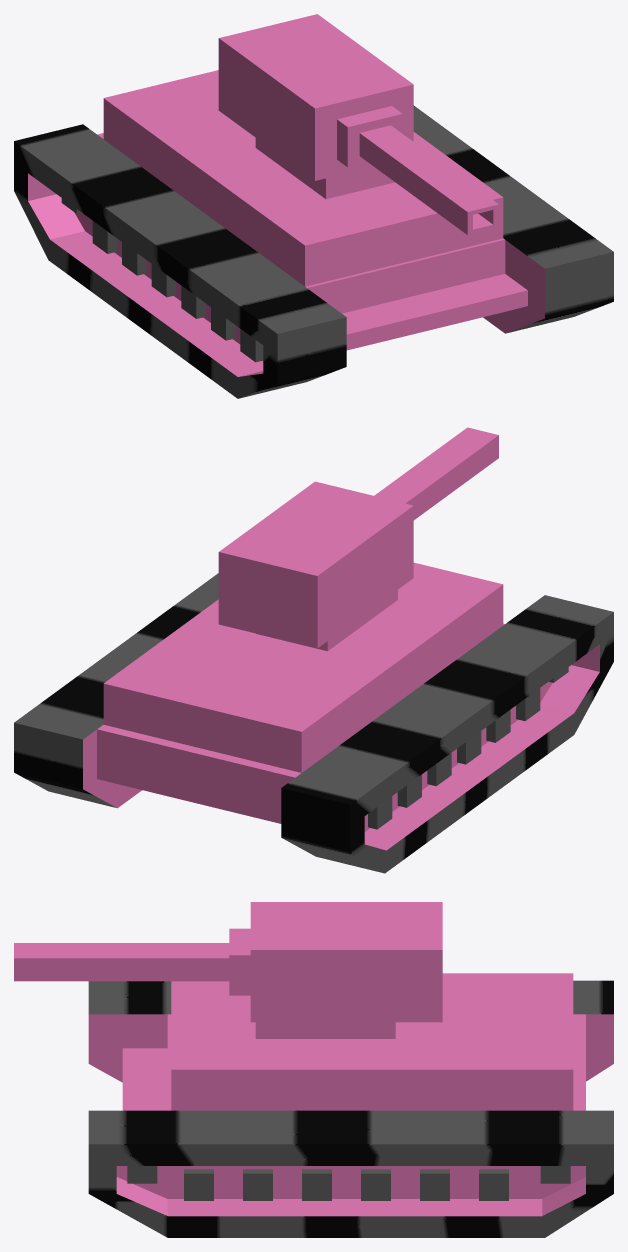
The model's file is sensha06.fbx.
3 views of the same model, one above another, from view 1: azimuth 30°, elevation 25°; view 2: azimuth 150°, elevation 25°; view 3: azimuth 270°, elevation 25° (orthographic).
Visible parts, largest first — view 1: polySurface4, polySurface1, polySurface2, polySurface5, polySurface3, pCube17, pCube16, pCube19, pCube18, pCube15, pCube14; view 2: polySurface1, polySurface4, polySurface2, polySurface5, polySurface3; view 3: polySurface1, polySurface3, polySurface2, polySurface5, polySurface4, pCube6, pCube7, pCube8, pCube9, pCube10, pCube11, pCube3 (+1 smaller).
Part boxes in pixels (x1=…): polySurface4: x1=14, y1=124, x2=346, y2=398; polySurface1: x1=103, y1=70, x2=503, y2=286; polySurface2: x1=218, y1=14, x2=498, y2=234; polySurface5: x1=28, y1=133, x2=544, y2=376; polySurface3: x1=413, y1=105, x2=613, y2=332; pCube17: x1=151, y1=264, x2=175, y2=297; pCube16: x1=181, y1=285, x2=205, y2=318; pCube19: x1=92, y1=221, x2=116, y2=253; pCube18: x1=122, y1=242, x2=146, y2=275; pCube15: x1=211, y1=307, x2=235, y2=340; pCube14: x1=240, y1=329, x2=263, y2=362; polySurface1: x1=103, y1=562, x2=503, y2=772; polySurface4: x1=281, y1=595, x2=613, y2=873; polySurface2: x1=218, y1=427, x2=498, y2=651; polySurface5: x1=83, y1=623, x2=599, y2=850; polySurface3: x1=14, y1=573, x2=218, y2=807; polySurface1: x1=171, y1=973, x2=573, y2=1110; polySurface3: x1=88, y1=1110, x2=613, y2=1237; polySurface2: x1=14, y1=902, x2=442, y2=1038; polySurface5: x1=88, y1=1014, x2=613, y2=1216; polySurface4: x1=88, y1=980, x2=613, y2=1014; pCube6: x1=184, y1=1169, x2=213, y2=1200; pCube7: x1=243, y1=1169, x2=272, y2=1200; pCube8: x1=302, y1=1169, x2=331, y2=1200; pCube9: x1=361, y1=1169, x2=390, y2=1200; pCube10: x1=420, y1=1169, x2=449, y2=1200; pCube11: x1=479, y1=1169, x2=508, y2=1200; pCube3: x1=127, y1=1166, x2=157, y2=1183.
Size of the model in its own units: 385 by 253 by 597.
Materials: 3 (1 with a texture image).
